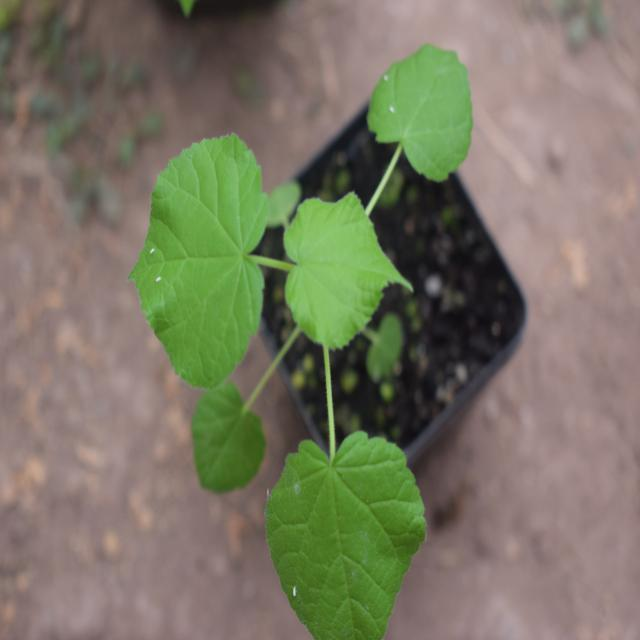abutilon theophrasti: (127, 47, 500, 605)
